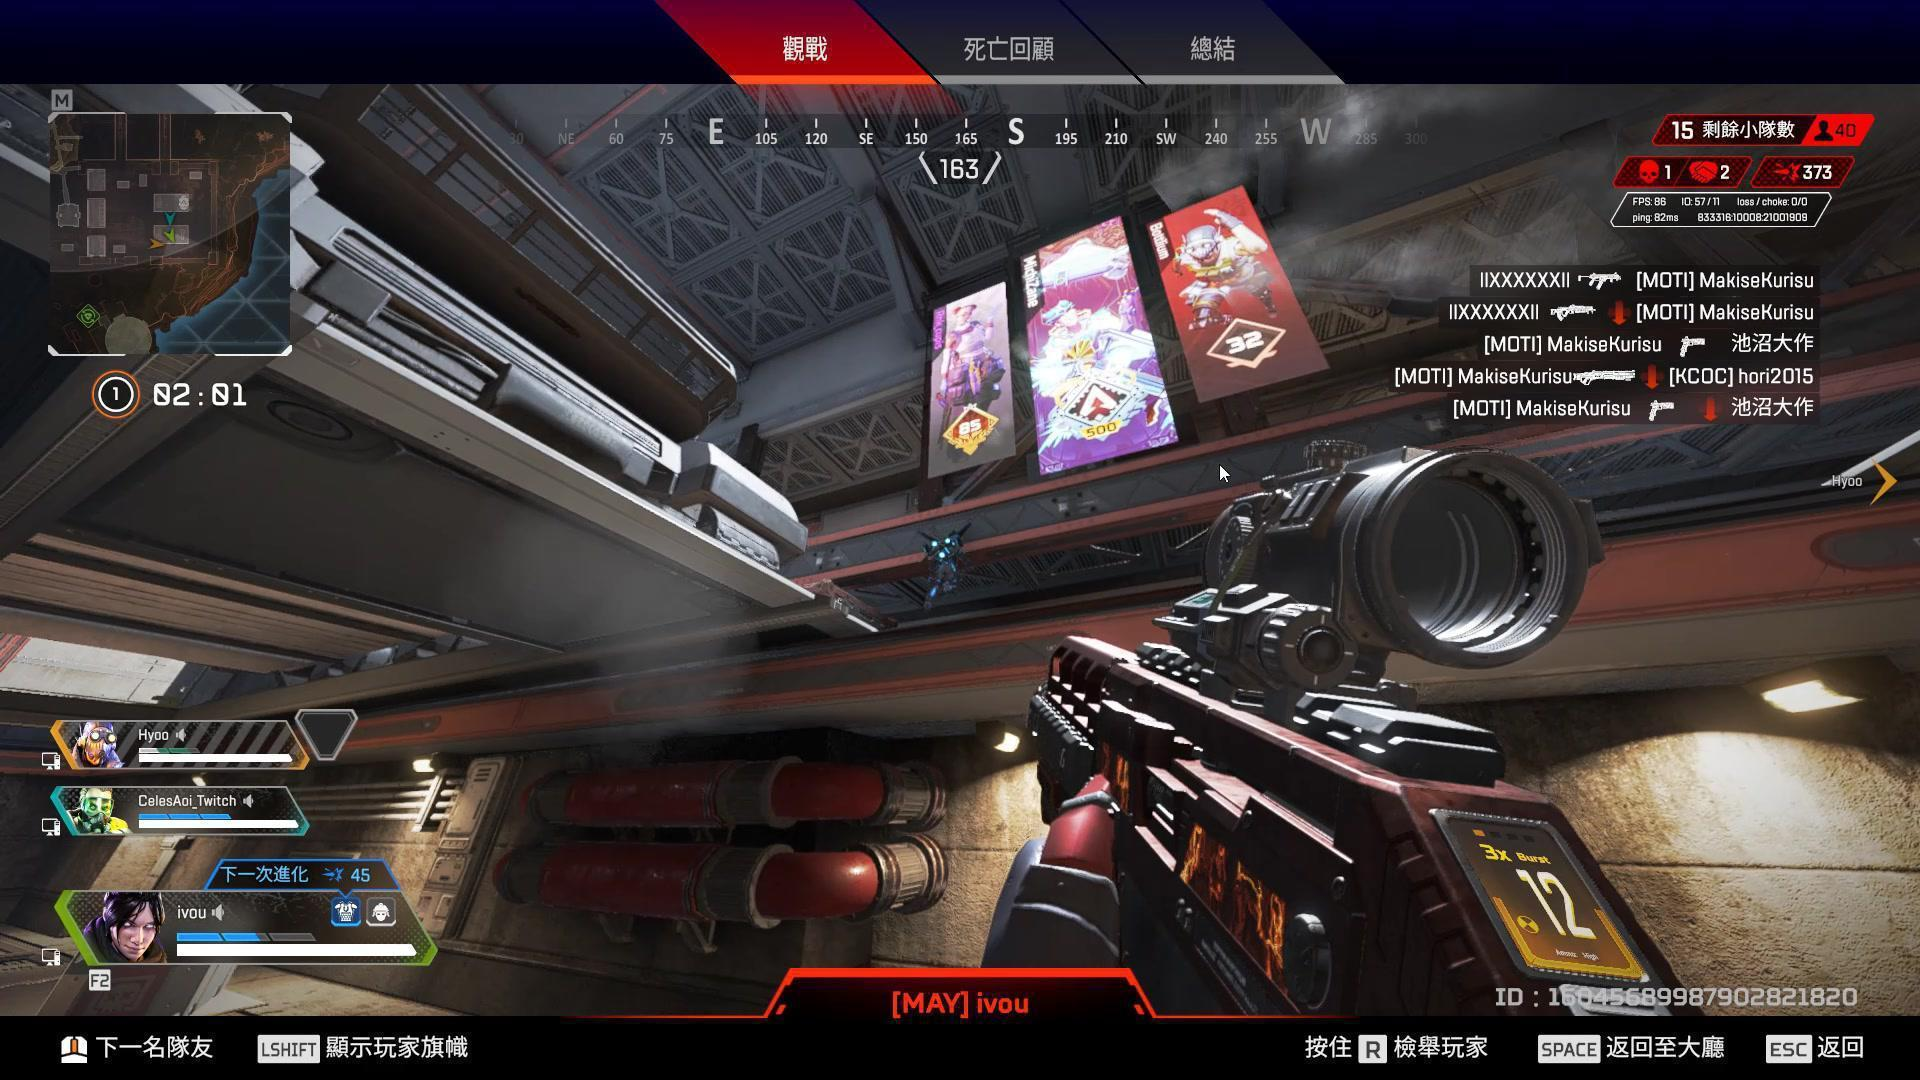avatar: (920, 525, 967, 615)
